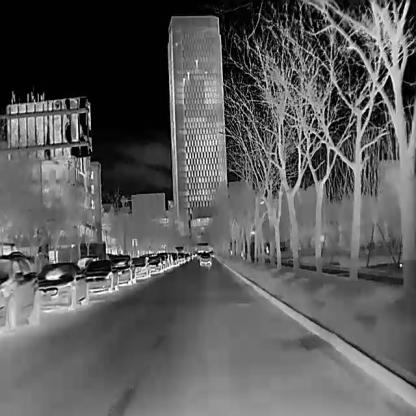car: (0, 249, 39, 330), (37, 260, 88, 310), (83, 258, 120, 292), (108, 254, 136, 285), (129, 255, 151, 280), (147, 253, 163, 274), (198, 250, 211, 268)
